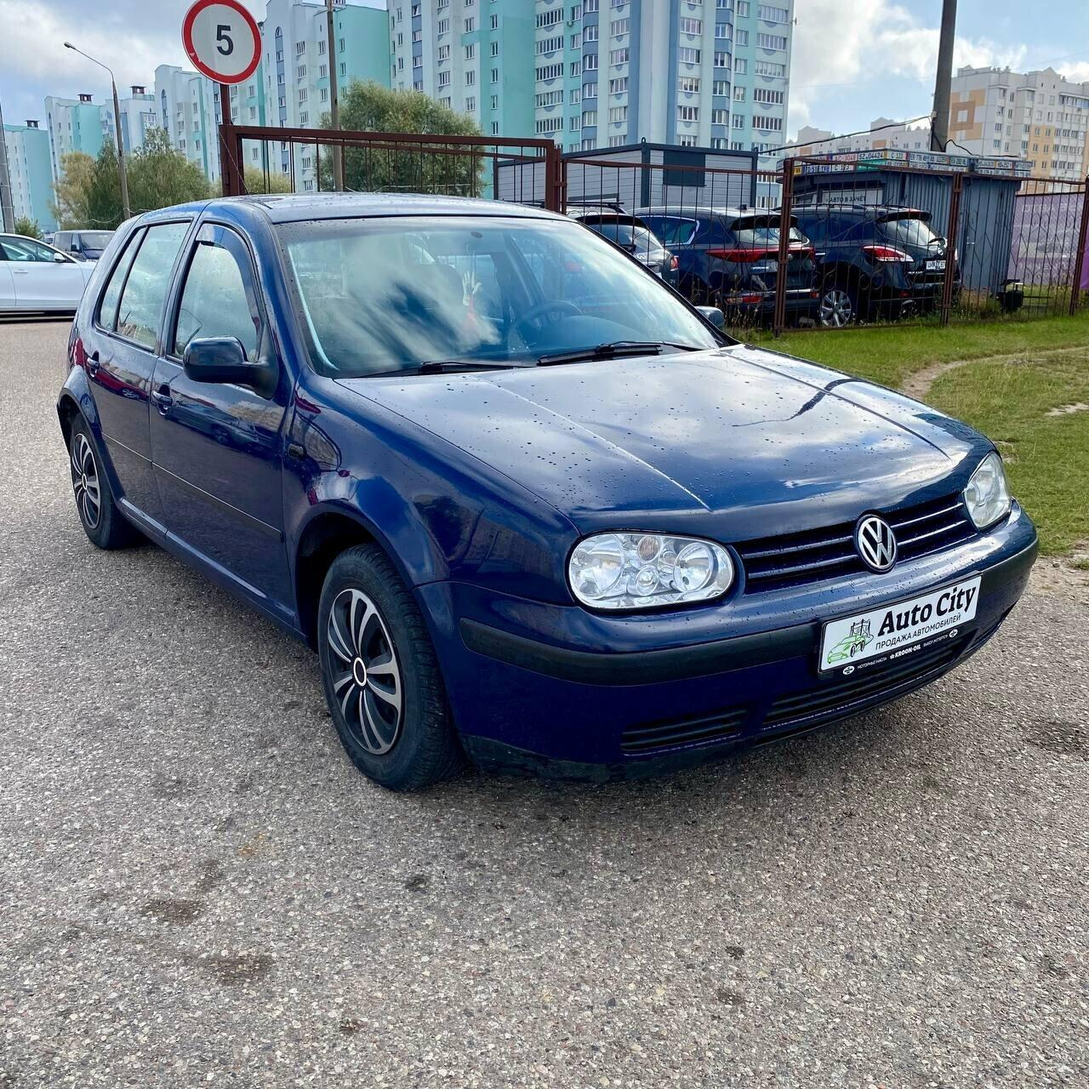Golf_1997-2006: (55, 188, 1041, 798)
